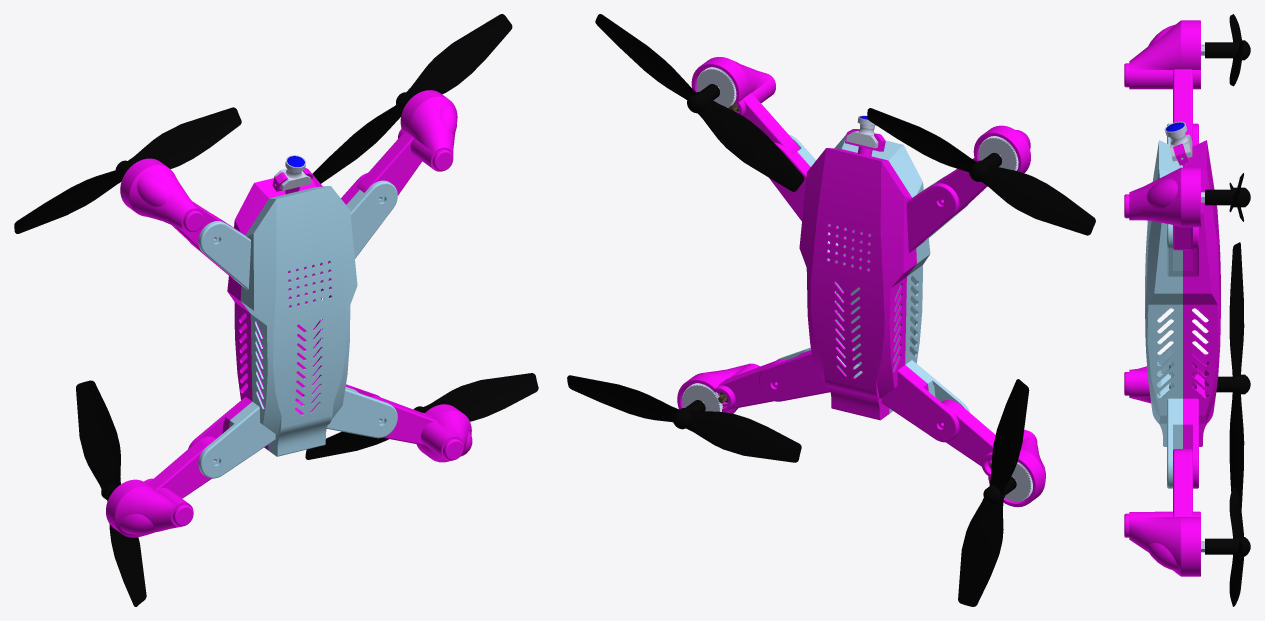
File: drone.glb
3 views of the same model, side by side, from view 1: azimuth 30°, elevation 25°; view 2: azimuth 150°, elevation 25°; view 3: azimuth 270°, elevation 25° (orthographic). The views are drawn at different scales.
Parts seen in each view (by area): view 1: NAUO19, NAUO1, NAUO17, NAUO6, NAUO7, NAUO3, NAUO16, NAUO9, NAUO18, NAUO8, NAUO5; view 2: NAUO6, NAUO1, NAUO17, NAUO18, NAUO16, NAUO19, NAUO7, NAUO3, NAUO8, NAUO9, NAUO4, NAUO12 (+1 smaller); view 3: NAUO6, NAUO19, NAUO8, NAUO9, NAUO3, NAUO16, NAUO18, NAUO17, NAUO1, NAUO7, NAUO5.
Part boxes in pixels (x1,y1,x2,y2): NAUO19: [198, 180, 397, 478]; NAUO1: [312, 14, 512, 183]; NAUO17: [14, 107, 241, 233]; NAUO6: [188, 168, 379, 449]; NAUO7: [106, 436, 216, 537]; NAUO3: [357, 90, 457, 198]; NAUO16: [76, 380, 146, 606]; NAUO9: [120, 158, 222, 251]; NAUO18: [305, 373, 538, 459]; NAUO8: [370, 396, 472, 462]; NAUO5: [273, 155, 311, 190]; NAUO6: [759, 129, 959, 442]; NAUO1: [595, 14, 804, 191]; NAUO17: [867, 108, 1095, 235]; NAUO18: [567, 375, 801, 462]; NAUO16: [958, 379, 1029, 606]; NAUO19: [776, 134, 969, 413]; NAUO7: [941, 400, 1045, 507]; NAUO3: [691, 57, 799, 154]; NAUO8: [677, 359, 786, 413]; NAUO9: [934, 125, 1030, 213]; NAUO4: [696, 67, 736, 107]; NAUO12: [978, 136, 1018, 170]; NAUO6: [1173, 123, 1220, 488]; NAUO19: [1145, 123, 1182, 488]; NAUO8: [1124, 449, 1200, 576]; NAUO9: [1124, 20, 1200, 142]; NAUO3: [1124, 167, 1200, 250]; NAUO16: [1216, 242, 1250, 509]; NAUO18: [1205, 486, 1250, 606]; NAUO17: [1205, 14, 1250, 86]; NAUO1: [1205, 173, 1250, 221]; NAUO7: [1124, 366, 1150, 403]; NAUO5: [1164, 121, 1192, 161].
Size of the model in its own units: 0.3262 by 0.2984 by 0.0635.
